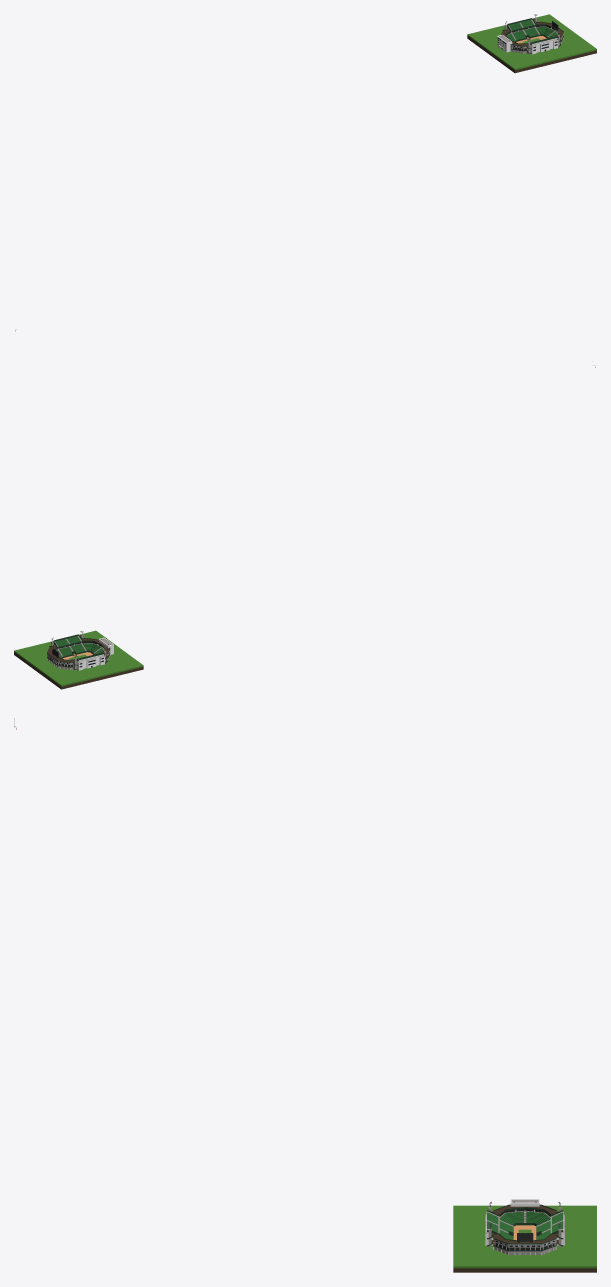
File: Stadium.glb
3 views of the same model, one above another, from view 1: azimuth 30°, elevation 25°; view 2: azimuth 210°, elevation 25°; view 3: azimuth 270°, elevation 25° (orthographic). The views are drawn at different scales.
Visible parts, largest first — view 1: Object_738; view 2: Object_738; view 3: Object_738, Object_5127.012, Object_5127.015.
Boxes of the visible parts, box(x1,y1,x2,y2) form: Object_738: box(497, 14, 563, 54); Object_738: box(47, 630, 113, 670); Object_738: box(485, 1199, 564, 1255); Object_5127.012: box(453, 1251, 489, 1272); Object_5127.015: box(561, 1251, 596, 1272).
Bounding box in the file's own units: 1063 × 27.59 × 487.
Materials: 2 (2 with a texture image).
